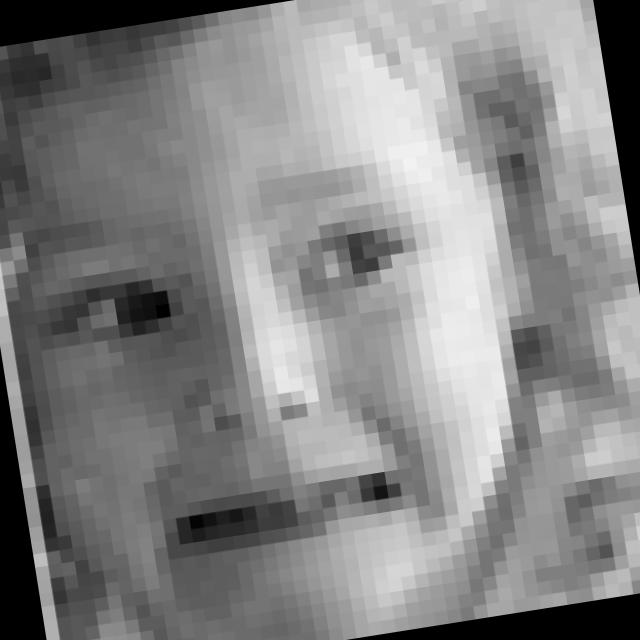fear: (14, 142, 489, 613)
